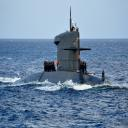submarine: (15, 6, 113, 86)
